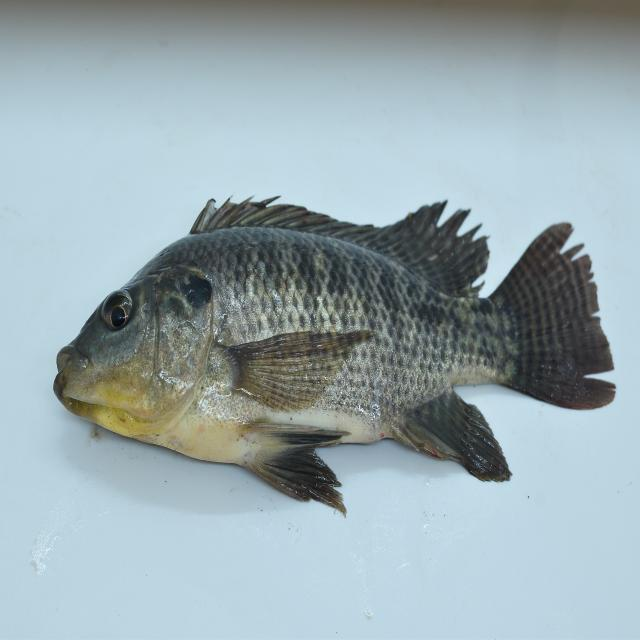Healthy Fish: (51, 190, 619, 519)
